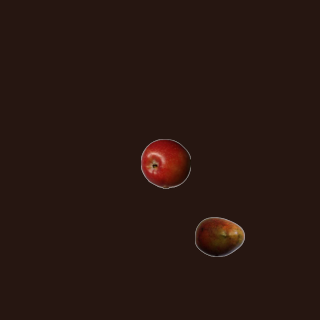Apple Braeburn: (140, 138, 190, 188)
Mango Red: (194, 211, 244, 261)
